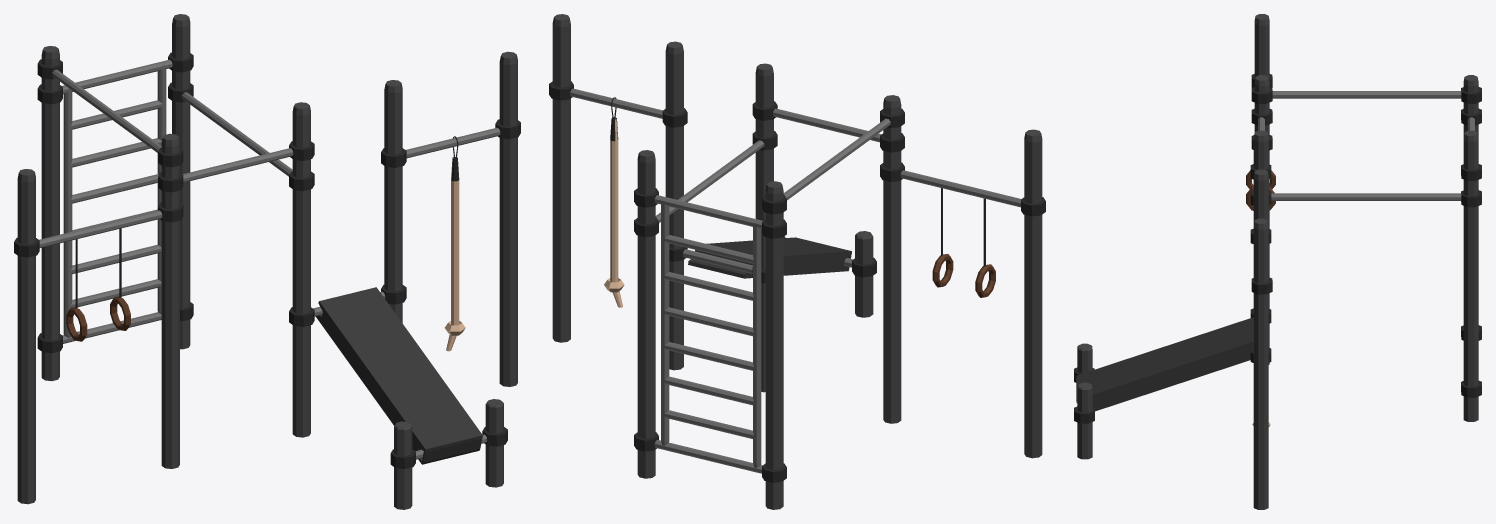
Rendered from SM_Props_Gym_01.fbx.
3 renders of one model, left to right at view 1: azimuth 30°, elevation 25°; view 2: azimuth 150°, elevation 25°; view 3: azimuth 270°, elevation 25°, orthographic. The views are drawn at different scales.
Parts seen in each view (by area): view 1: SM_Props_Gym_01; view 2: SM_Props_Gym_01; view 3: SM_Props_Gym_01.
Part boxes in pixels (left/top/right/bottom): SM_Props_Gym_01: left=14, top=14, right=520, bottom=509; SM_Props_Gym_01: left=549, top=14, right=1045, bottom=509; SM_Props_Gym_01: left=1074, top=14, right=1481, bottom=509.
Size of the model in its own units: 3.85 by 2.41 by 3.11.
